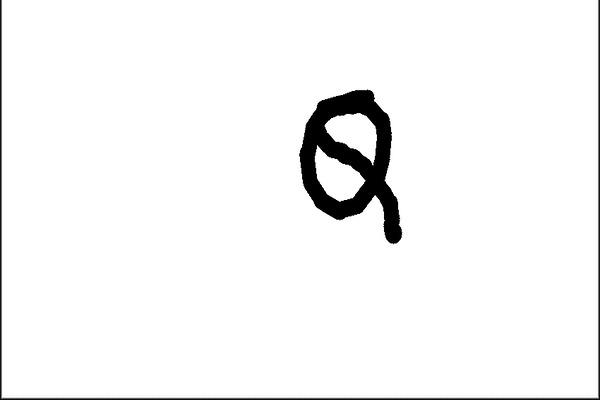Q: (295, 80, 407, 250)
